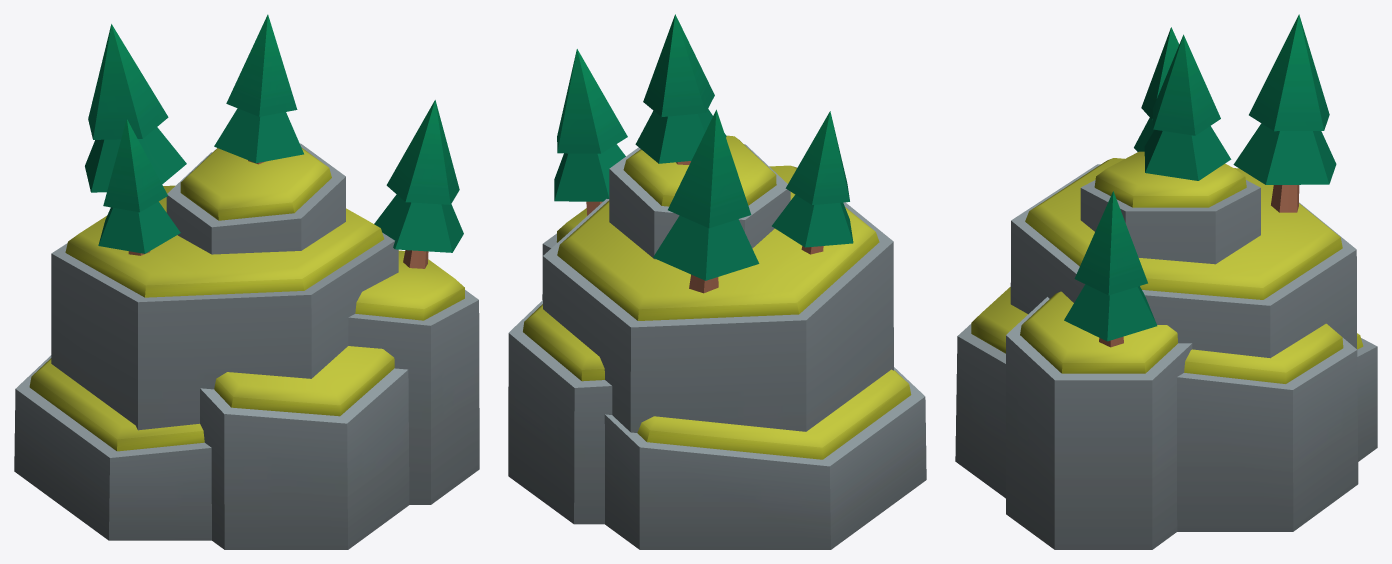
Rendered from kaykit-medieval-hexagon-pack-mountain-a-grass-trees.glb.
3 views of the same model, side by side, from view 1: azimuth 30°, elevation 25°; view 2: azimuth 150°, elevation 25°; view 3: azimuth 270°, elevation 25° (orthographic).
Parts seen in each view (by area): view 1: mountain_A_grass_trees; view 2: mountain_A_grass_trees; view 3: mountain_A_grass_trees.
Boxes of the visible parts, x1,y1,x2,y2 form: mountain_A_grass_trees: (14, 14, 479, 549); mountain_A_grass_trees: (508, 14, 926, 549); mountain_A_grass_trees: (955, 14, 1377, 549).
Bounding box in the file's own units: 1.86 × 2.18 × 1.88.
1 material, 1 textured.
